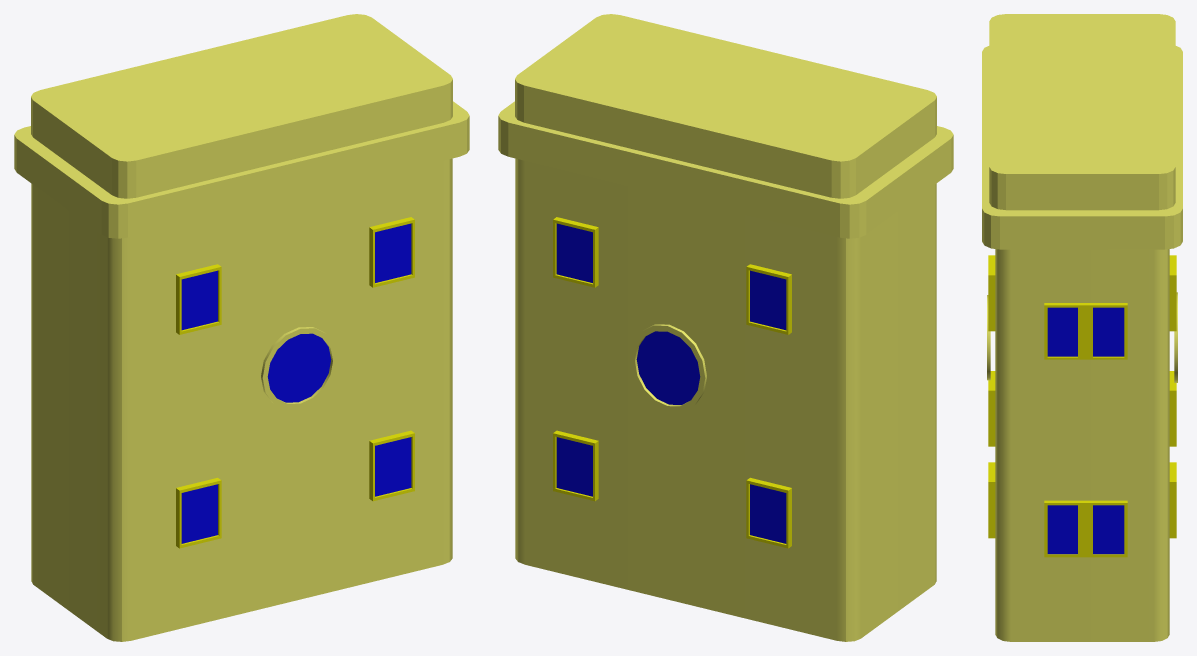
3 renders of one model, left to right at view 1: azimuth 30°, elevation 25°; view 2: azimuth 150°, elevation 25°; view 3: azimuth 270°, elevation 25°, orthographic. The views are drawn at different scales.
Parts seen in each view (by area): view 1: pCube50, pTorus1, polySurface43, polySurface47, polySurface45, polySurface46; view 2: pCube50, pTorus1, polySurface43, polySurface47, polySurface45, polySurface46; view 3: pCube50, pCube143, pCube69, polySurface46 (×2), polySurface47 (×2), polySurface45 (×2).
Boxes of the visible parts, box(x1,y1,x2,y2) form: pCube50: box(14, 14, 469, 641); pTorus1: box(261, 327, 337, 409); polySurface43: box(176, 264, 221, 334); polySurface47: box(369, 430, 414, 501); polySurface45: box(176, 477, 221, 548); polySurface46: box(369, 217, 414, 287); pCube50: box(498, 14, 953, 641); pTorus1: box(630, 324, 706, 411); polySurface43: box(746, 264, 791, 334); polySurface47: box(553, 430, 598, 501); polySurface45: box(746, 477, 791, 548); polySurface46: box(553, 217, 598, 287); pCube50: box(982, 14, 1182, 641); pCube143: box(1044, 500, 1127, 557); pCube69: box(1044, 303, 1127, 359); polySurface46 (×2): box(988, 255, 1176, 331); polySurface47 (×2): box(988, 462, 1176, 538); polySurface45 (×2): box(988, 371, 1176, 446).
Bounding box in the file's own units: 40.02 × 50.44 × 19.68.
